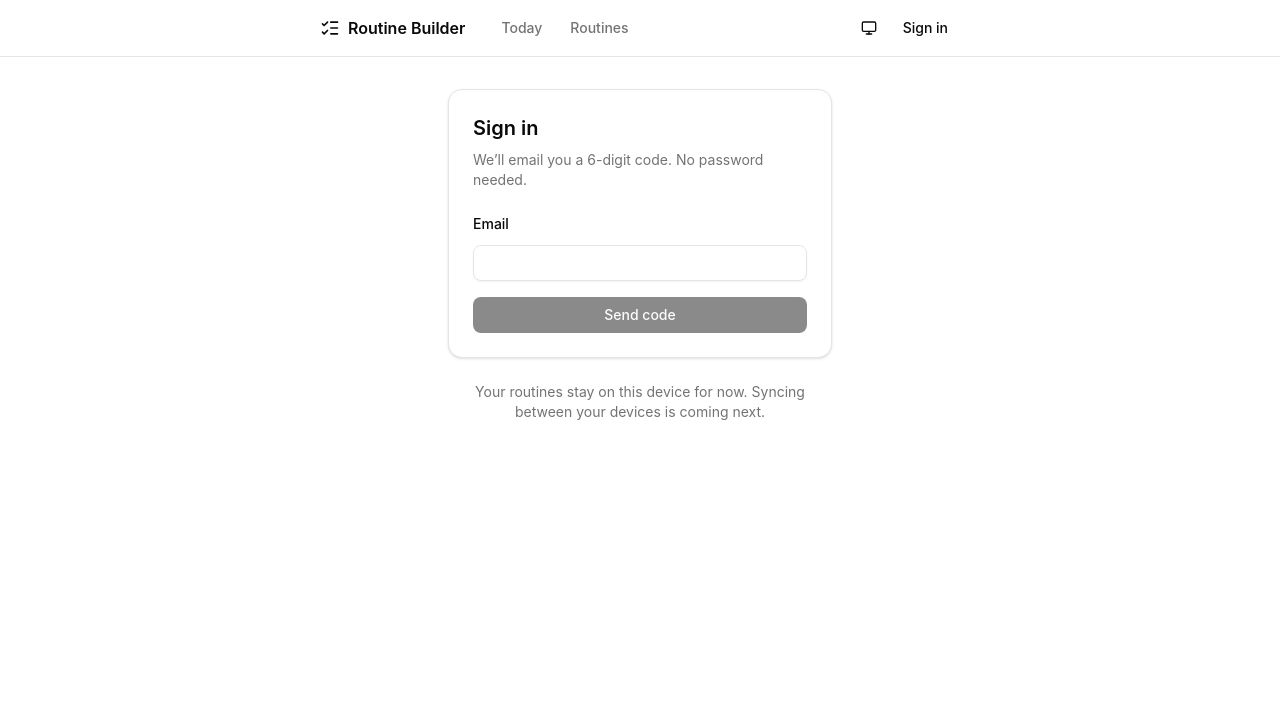
Test: signing in › waits before allowing another code, and can go back to change the email
This screenshot has width=1280, height=720.
Expected: the heading "Routine Builder" is shown, [348,16,465,40]
Type "me@example.com" into the field labelled "Email".
click(640, 263); type("me@example.com")  # box [473,245,807,281]
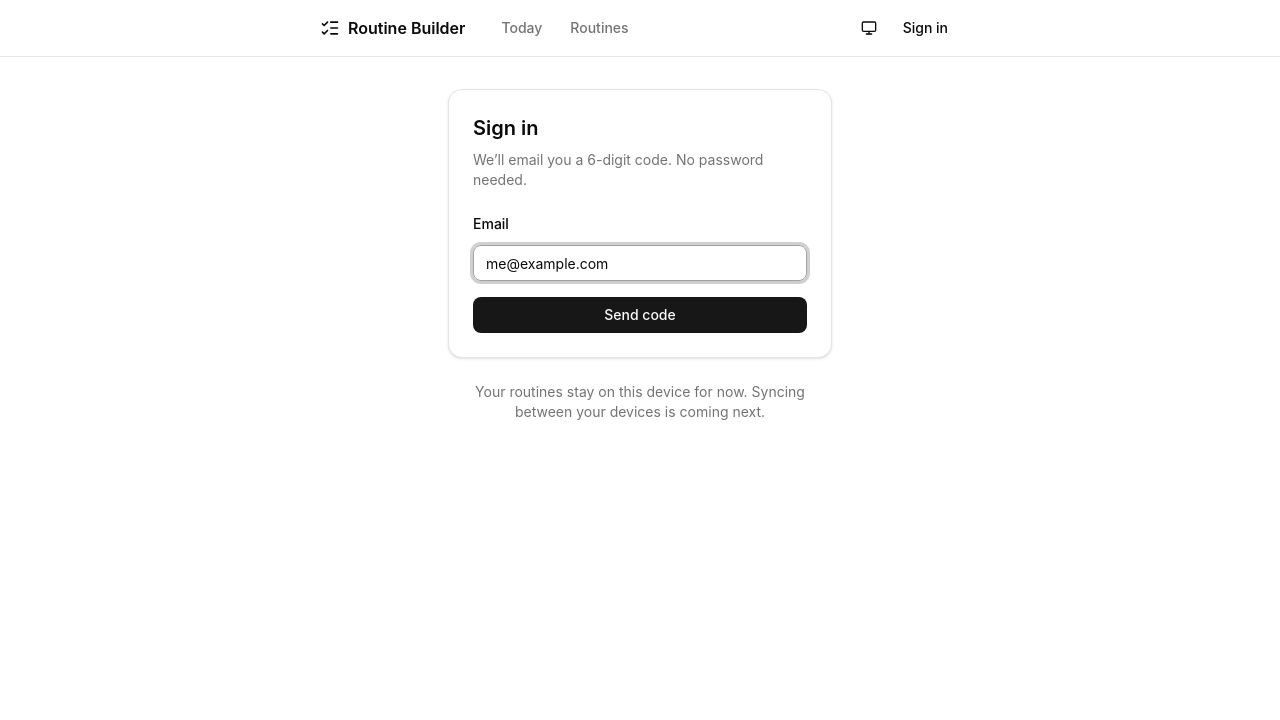
Click the button "Send code".
click(640, 315)  # box [473,297,807,333]
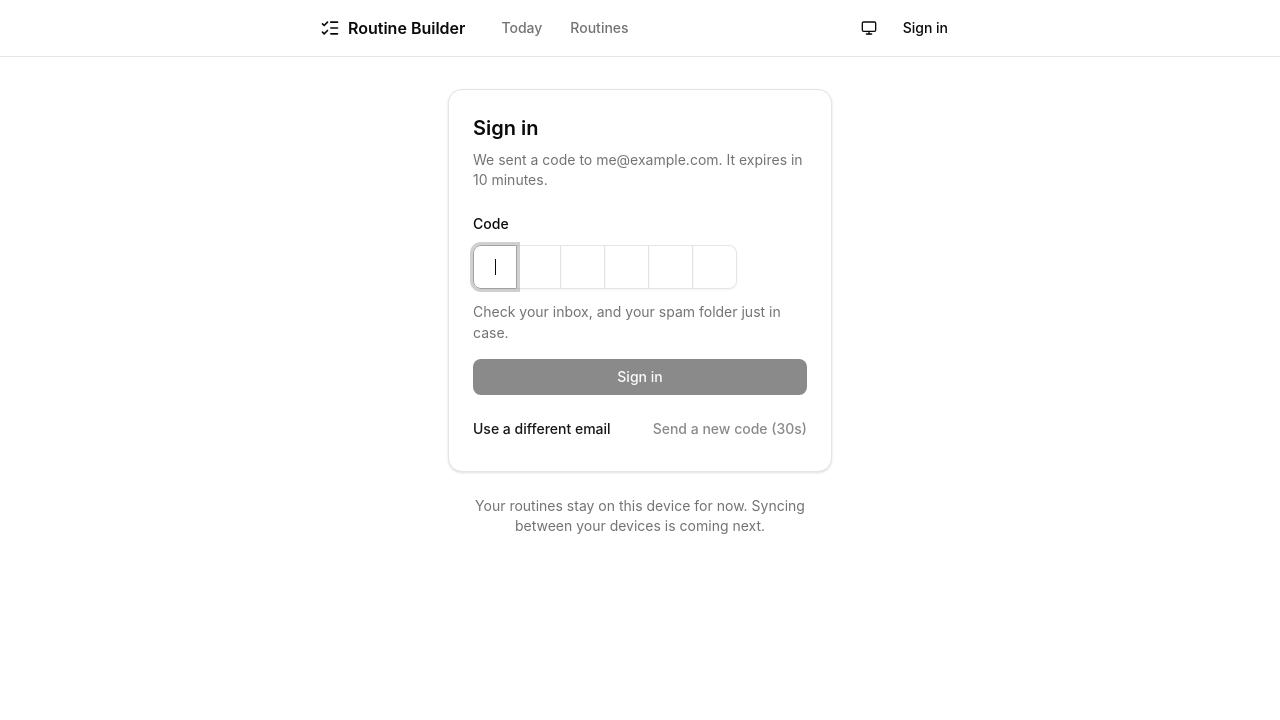
Expected: the button "Send a new code (30s)" is disabled, [653,411,807,447]
Click the button "Use a different email".
click(542, 429)  # box [473,411,611,447]
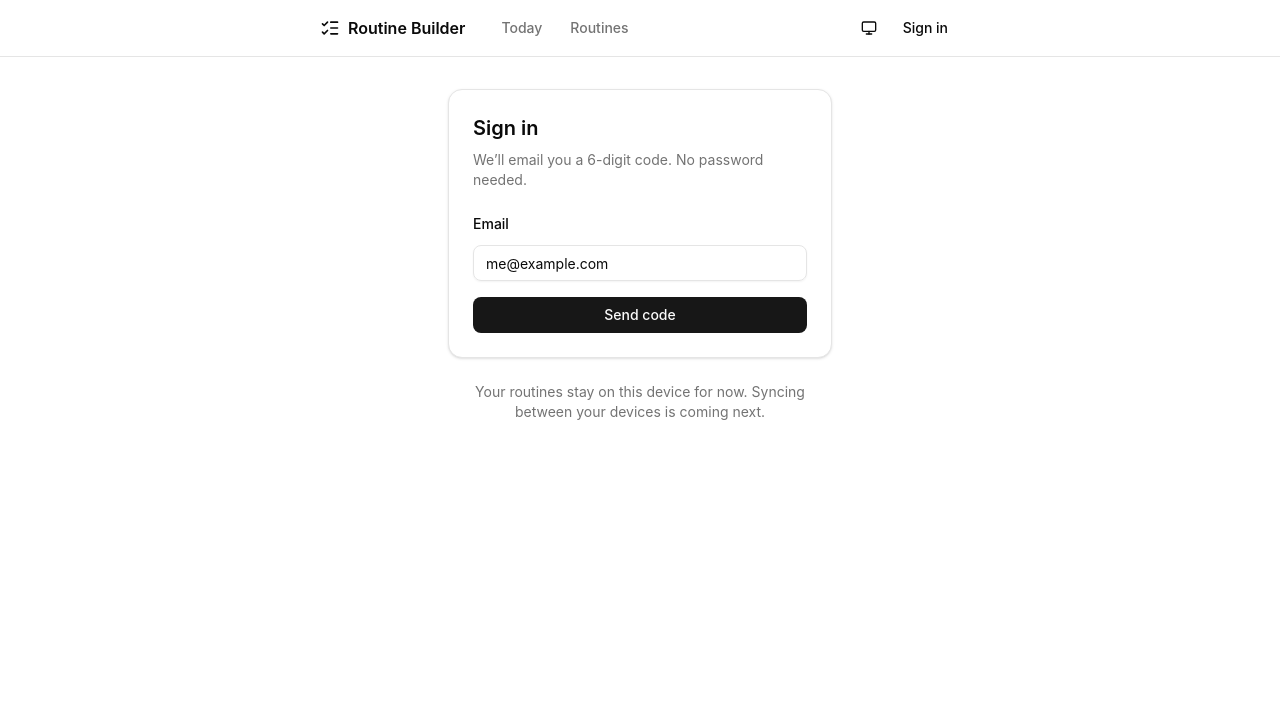
Expected: the field labelled "Email" holds "me@example.com", [473,245,807,281]
